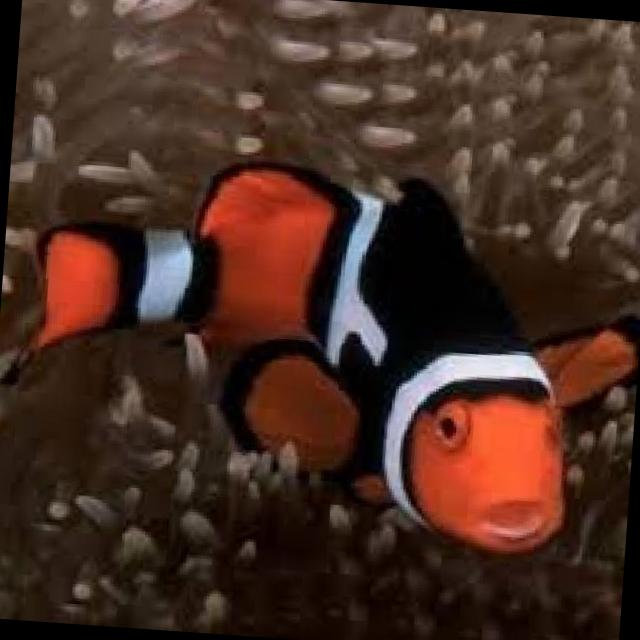ButterflyFish: (28, 147, 640, 564)
